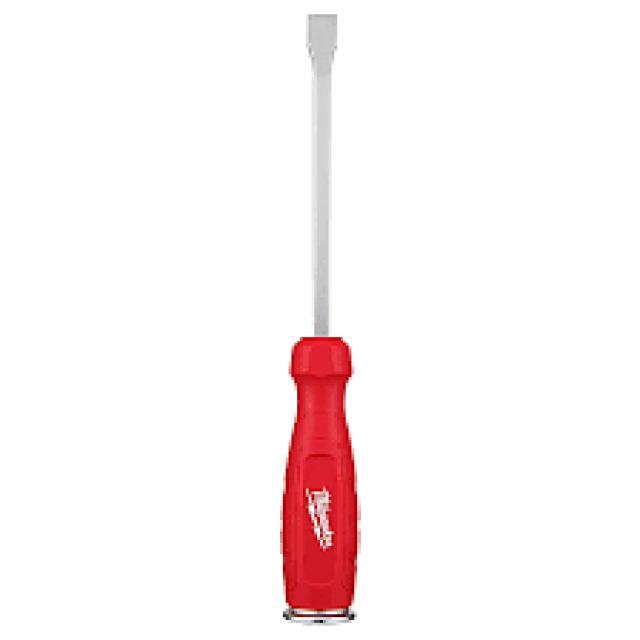Screwdriver: (283, 14, 360, 624)
